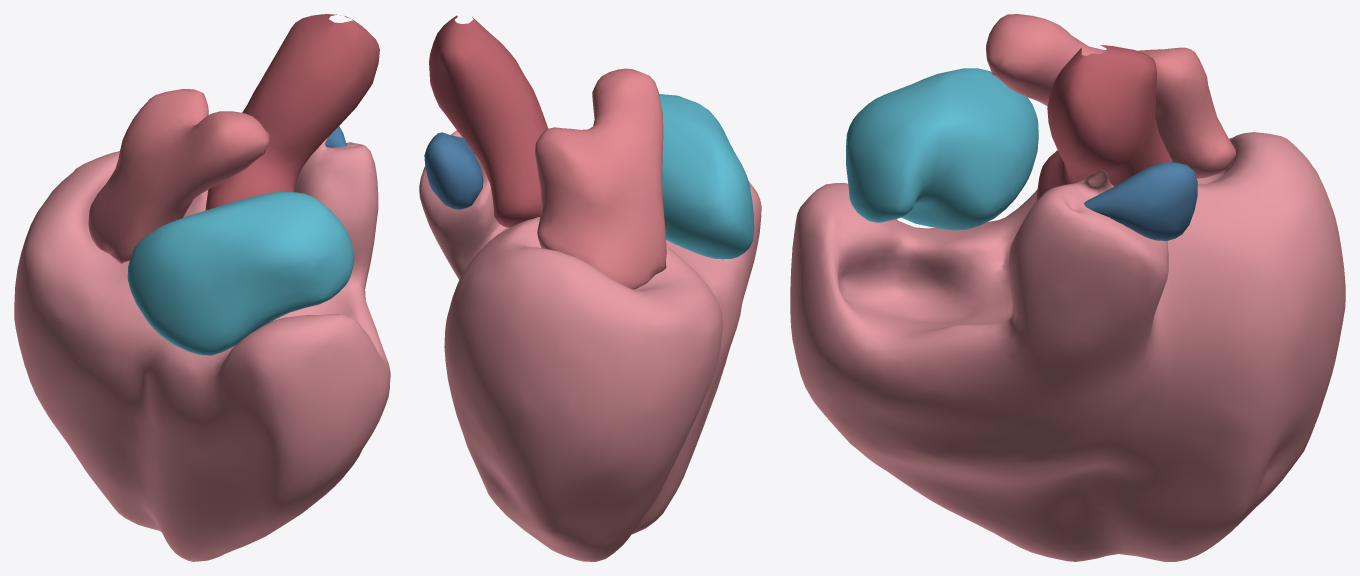
File: frame_72.glb
3 renders of one model, left to right at view 1: azimuth 30°, elevation 25°; view 2: azimuth 150°, elevation 25°; view 3: azimuth 270°, elevation 25°, orthographic. The views are drawn at different scales.
Visible parts, largest first — view 1: Renderer Node; view 2: Renderer Node; view 3: Renderer Node.
Part boxes in pixels (x1=…): Renderer Node: x1=14, y1=14, x2=390, y2=561; Renderer Node: x1=419, y1=15, x2=761, y2=561; Renderer Node: x1=790, y1=14, x2=1345, y2=561.
Bounding box in the file's own units: 107 × 164 × 137.
